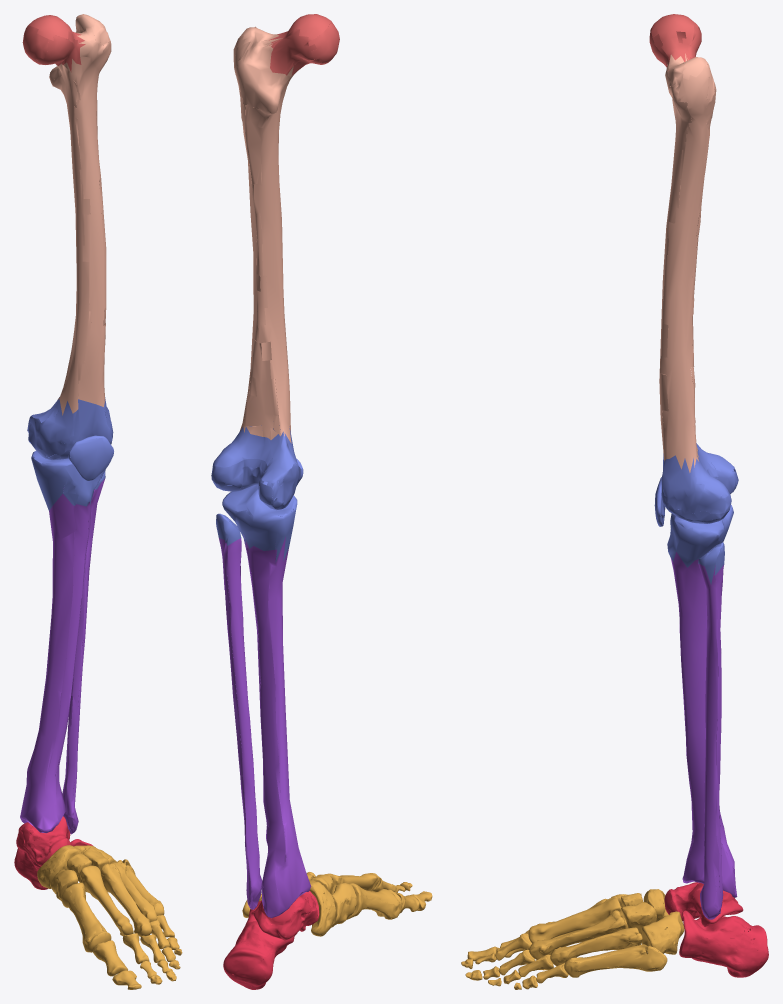
The model's file is leg_model.glb.
3 views of the same model, side by side, from view 1: azimuth 30°, elevation 25°; view 2: azimuth 150°, elevation 25°; view 3: azimuth 270°, elevation 25° (orthographic). The views are drawn at different scales.
Visible parts, largest first — view 1: Shin/Calf, Thigh, Foot, Knee, Hip, Ankle; view 2: Shin/Calf, Thigh, Knee, Foot, Ankle, Hip; view 3: Thigh, Shin/Calf, Foot, Knee, Ankle, Hip.
Boxes of the visible parts, box(x1,y1,x2,y2) form: Shin/Calf: box(20, 478, 105, 834); Thigh: box(49, 14, 111, 415); Foot: box(37, 845, 182, 989); Knee: box(27, 397, 113, 510); Hip: box(22, 15, 85, 72); Ankle: box(14, 816, 92, 889); Shin/Calf: box(219, 537, 311, 918); Thigh: box(233, 26, 299, 443); Knee: box(211, 425, 303, 562); Foot: box(242, 872, 432, 936); Ankle: box(223, 891, 319, 989); Hip: box(269, 14, 339, 75); Thigh: box(659, 53, 716, 472); Shin/Calf: box(671, 552, 737, 919); Foot: box(461, 889, 684, 989); Knee: box(654, 443, 738, 584); Ankle: box(664, 882, 768, 977); Hip: box(649, 14, 701, 70).
Bounding box in the file's own units: 0.1043 × 0.9363 × 0.275.
